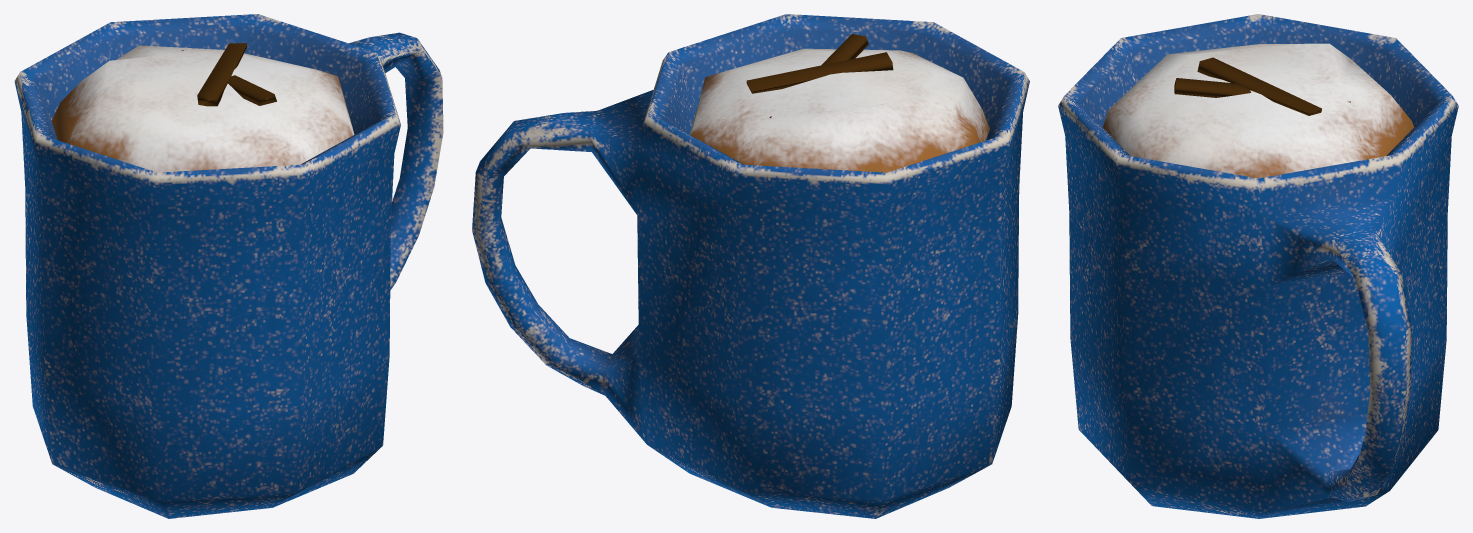
The model's file is KindledSpirits-HotCoco.fbx.
The picture shows the model from 3 angles, left to right: view 1: azimuth 30°, elevation 25°; view 2: azimuth 150°, elevation 25°; view 3: azimuth 270°, elevation 25°; orthographic projection.
Parts seen in each view (by area): view 1: HotCoco-LOD0; view 2: HotCoco-LOD0; view 3: HotCoco-LOD0.
Boxes of the visible parts, <box> form: HotCoco-LOD0: <box>14,14,443,518</box>; HotCoco-LOD0: <box>472,14,1029,518</box>; HotCoco-LOD0: <box>1058,14,1458,518</box>.
Size of what is drawn, in the model's own units: 34.05 by 27.48 by 25.07.
